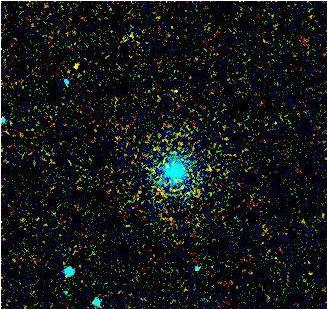star: (60, 50, 90, 80)
